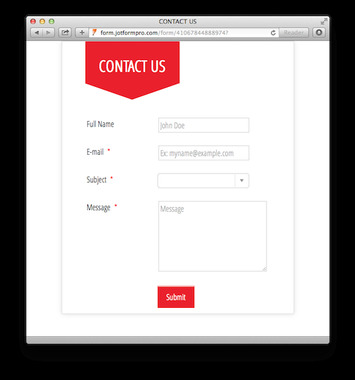_form_: (1, 1, 355, 380)
button: (154, 285, 197, 309)
field: (156, 199, 268, 274), (156, 115, 251, 134), (155, 172, 252, 190), (156, 144, 252, 162)
field_with_label: (86, 198, 272, 276), (85, 112, 254, 135), (86, 142, 254, 164), (85, 170, 255, 191)
